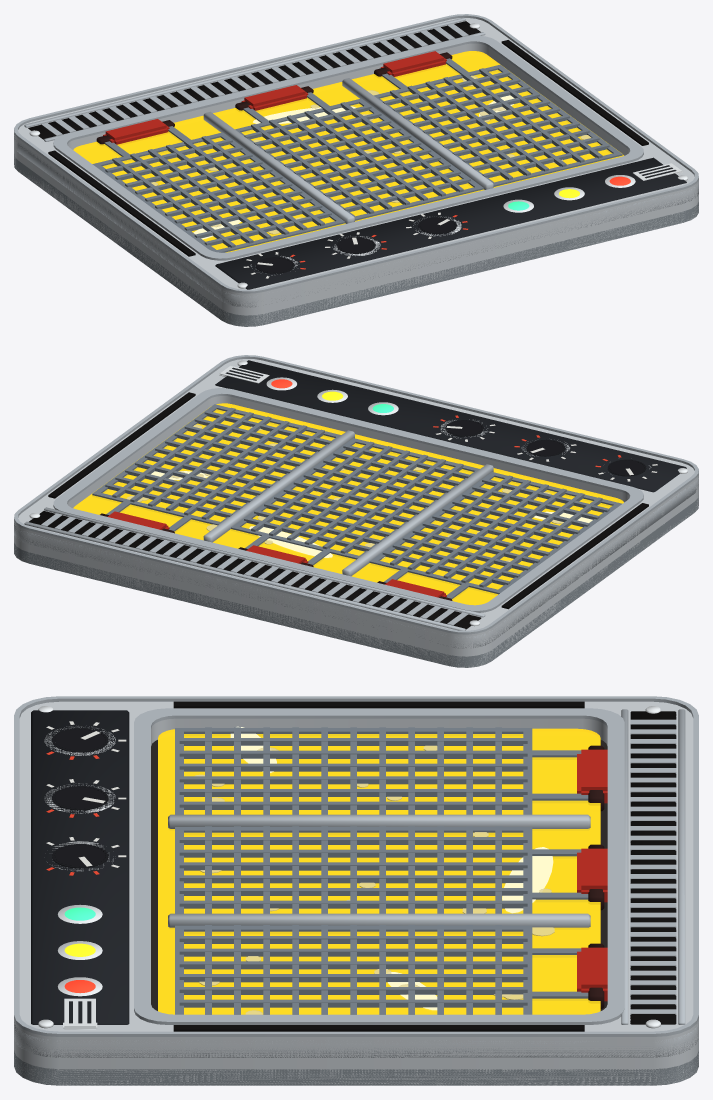
Rendered from fryer.glb.
3 renders of one model, top to bottom at view 1: azimuth 30°, elevation 25°; view 2: azimuth 150°, elevation 25°; view 3: azimuth 270°, elevation 25°, orthographic. The views are drawn at different scales.
Parts seen in each view (by area): view 1: Fryer; view 2: Fryer; view 3: Fryer.
Part boxes in pixels (<box>): Fryer: <box>14,14,698,326</box>; Fryer: <box>14,355,698,667</box>; Fryer: <box>14,696,698,1085</box>.
Bounding box in the file's own units: 7 × 0.5 × 6.
